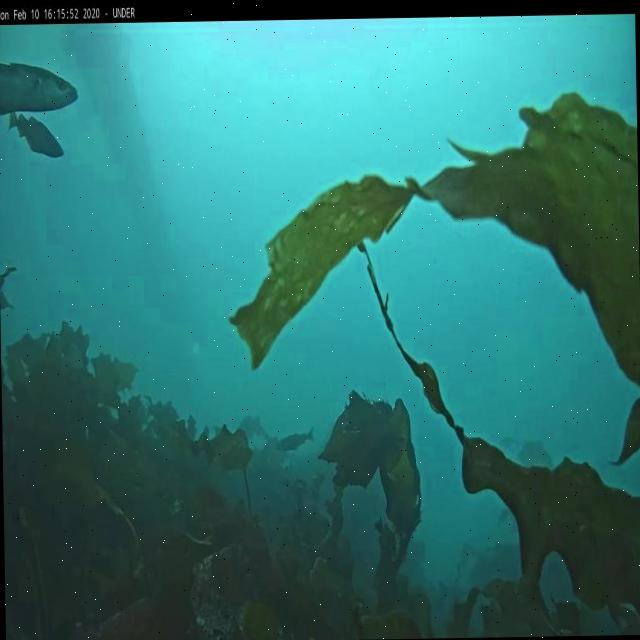fish: (0, 61, 79, 115), (9, 108, 64, 158), (274, 423, 314, 452)
